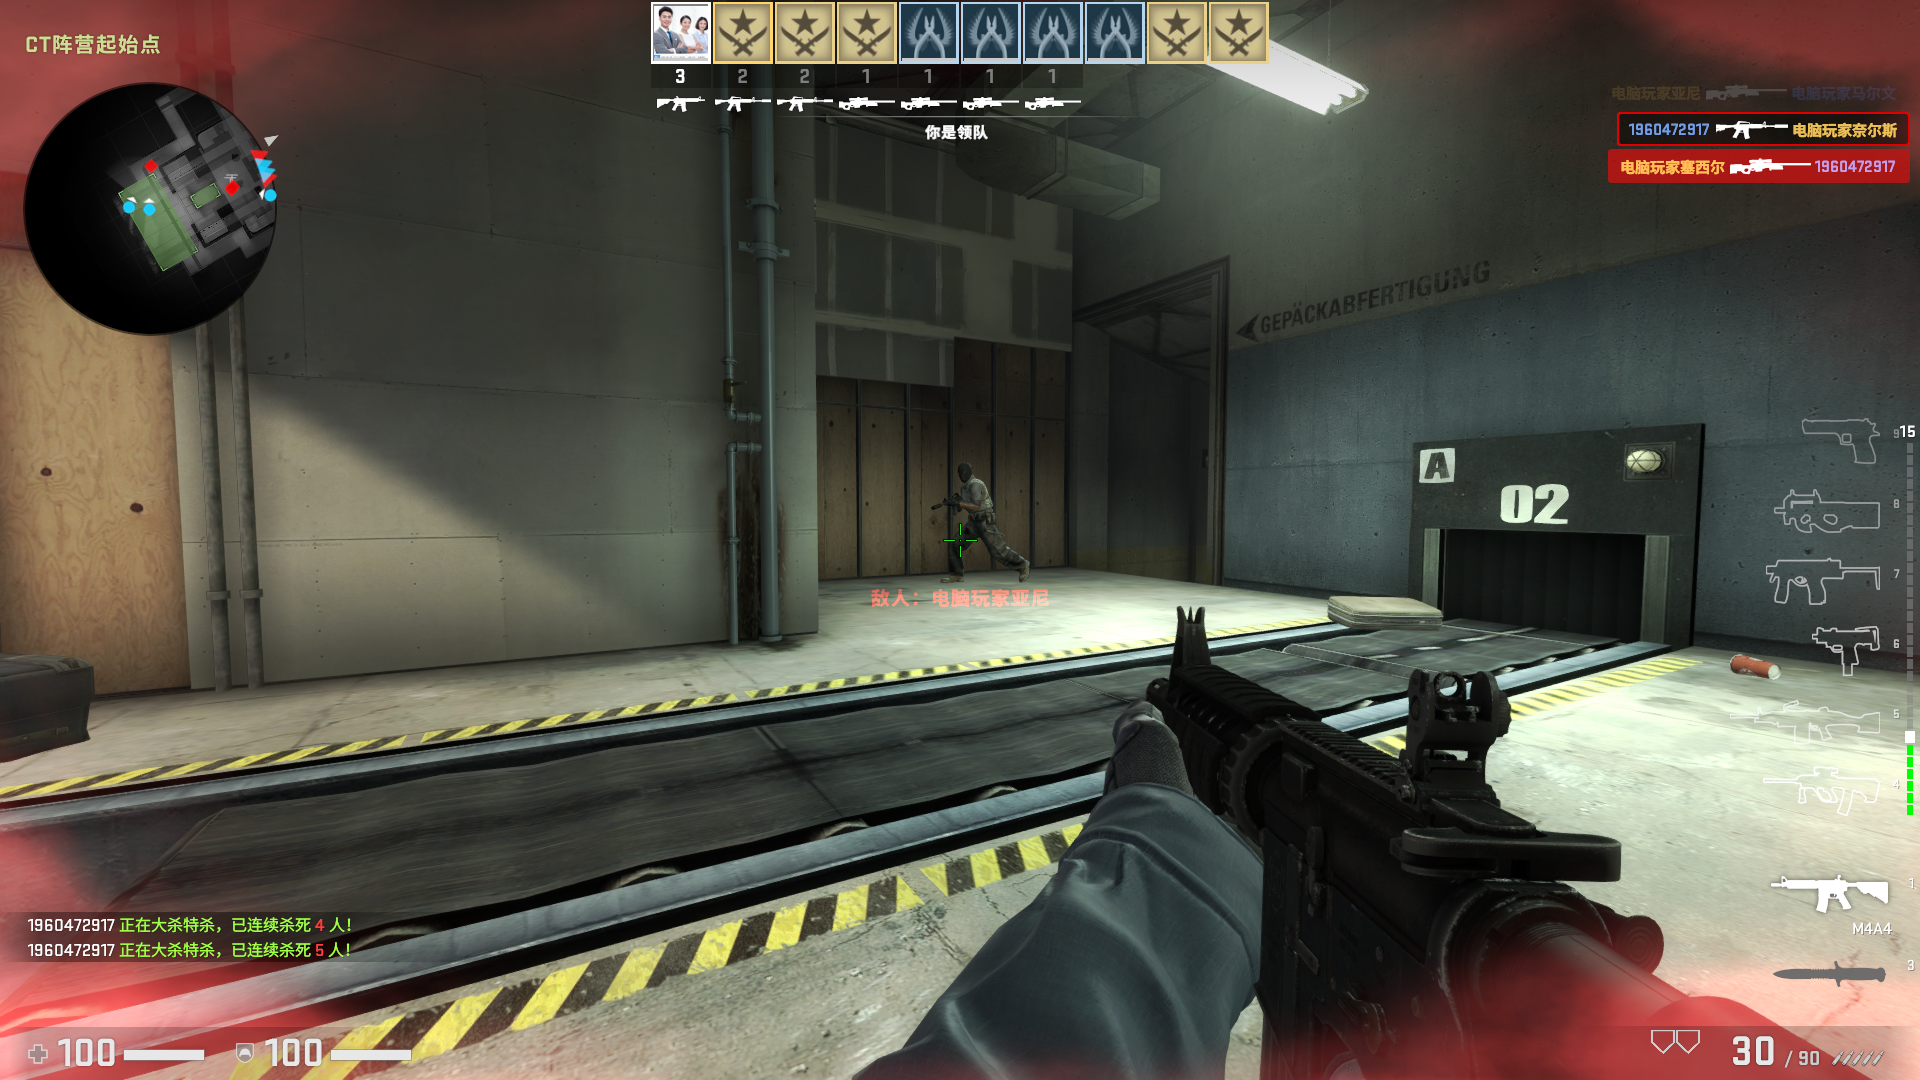person: (930, 463, 1029, 587)
